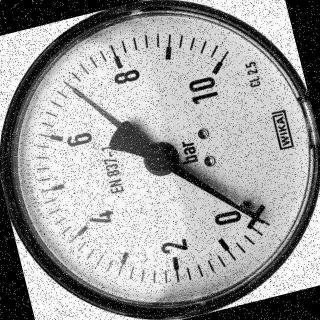gauge: (0, 0, 320, 320), (230, 193, 274, 237), (138, 137, 183, 180), (195, 52, 236, 90), (252, 212, 268, 229), (58, 75, 74, 91)
